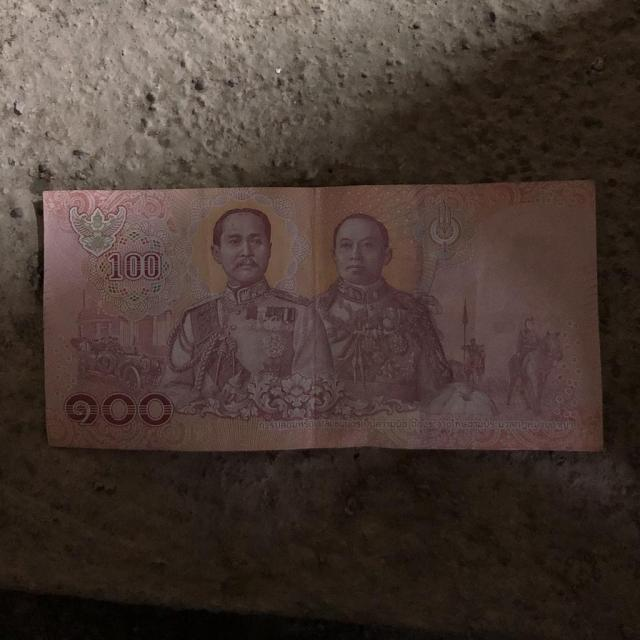THAI100: (44, 182, 602, 451)
